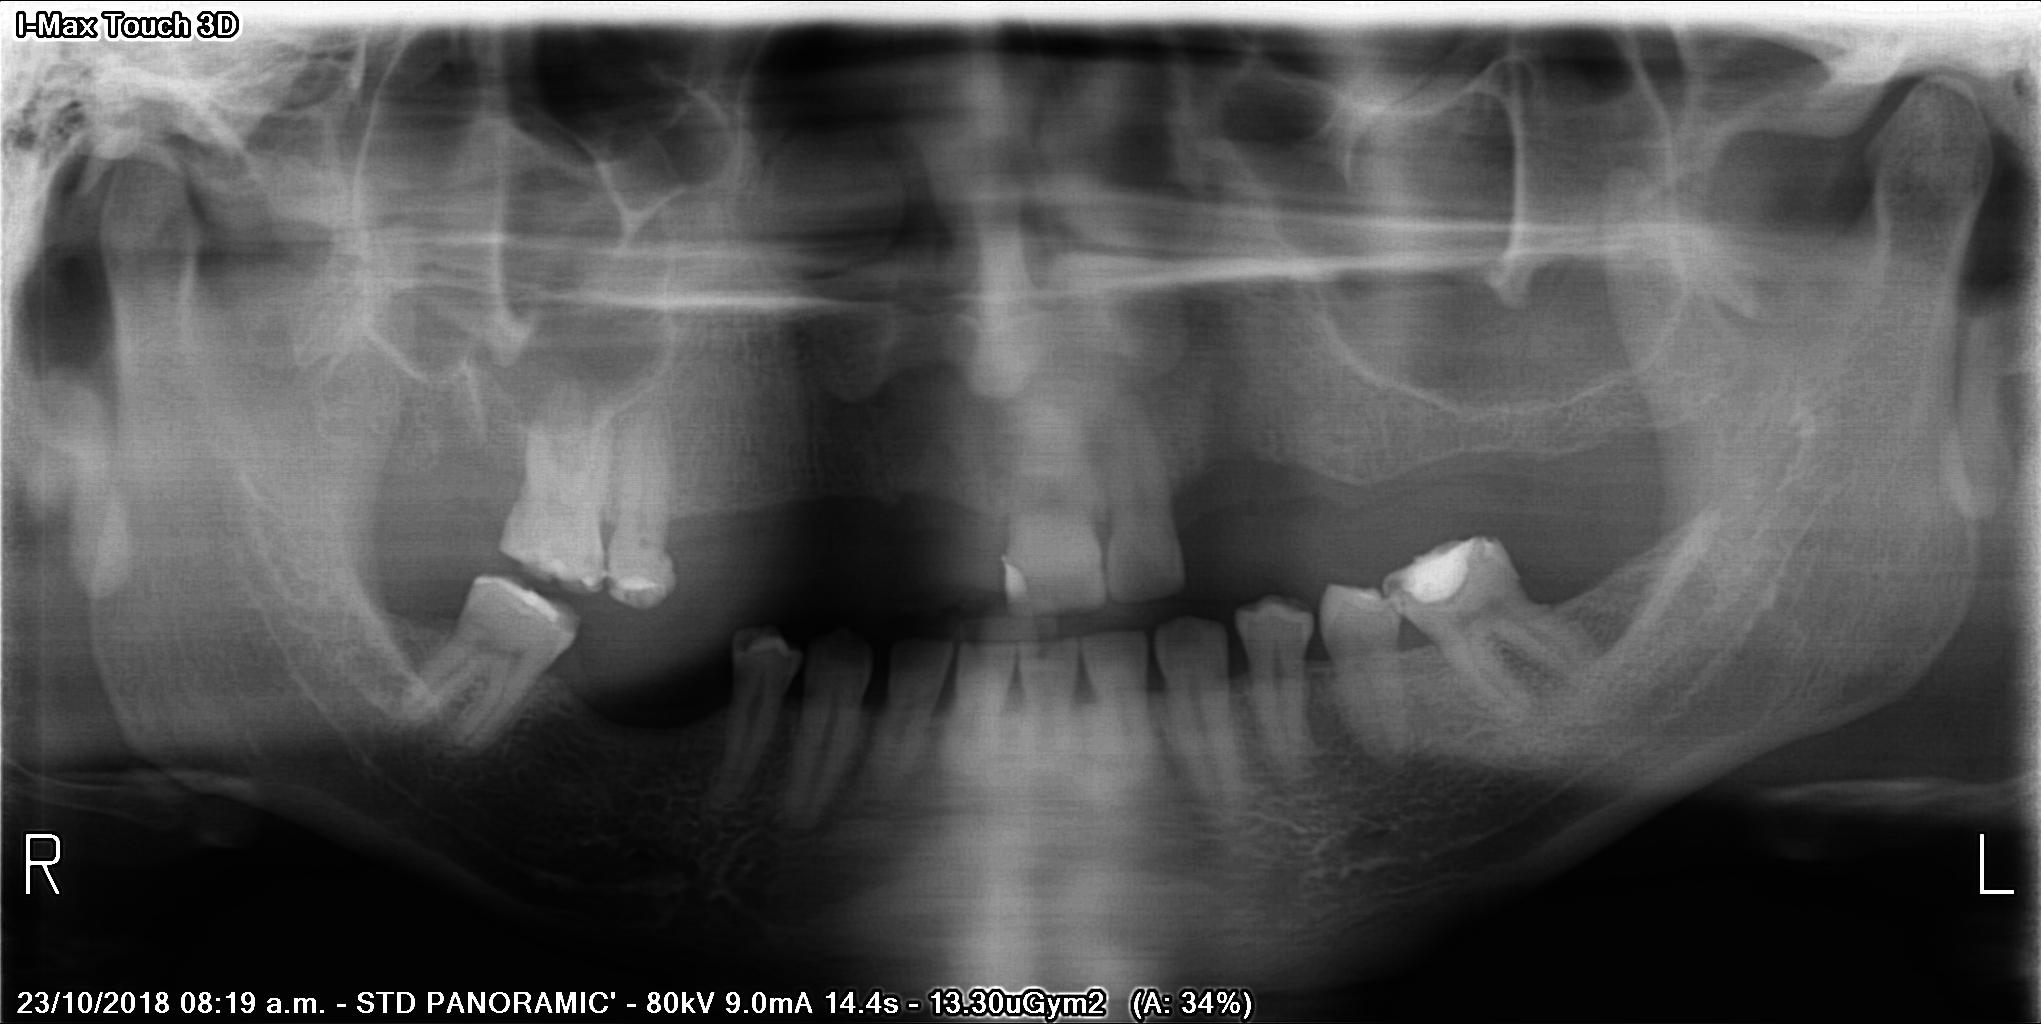Çürük: (467, 568, 571, 633), (1404, 525, 1490, 602), (987, 547, 1025, 613), (610, 563, 667, 605)
Çürük Bölgesi: (1378, 559, 1414, 615), (726, 654, 769, 692), (1019, 566, 1047, 620)
